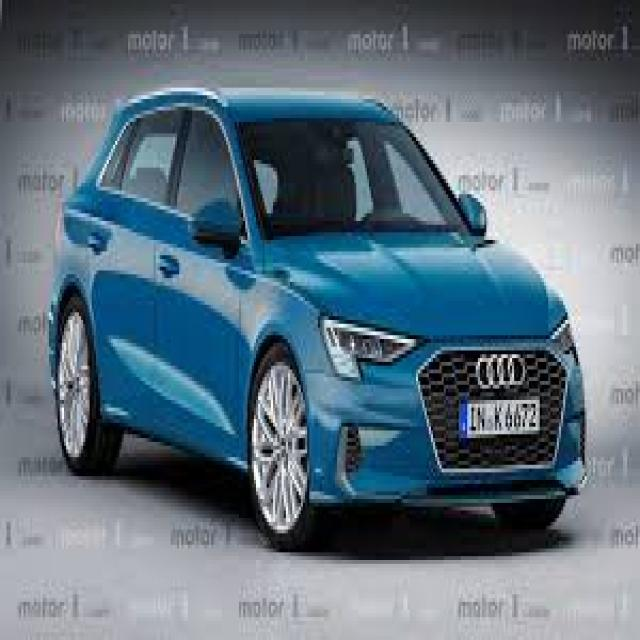Car: (48, 89, 584, 548)
